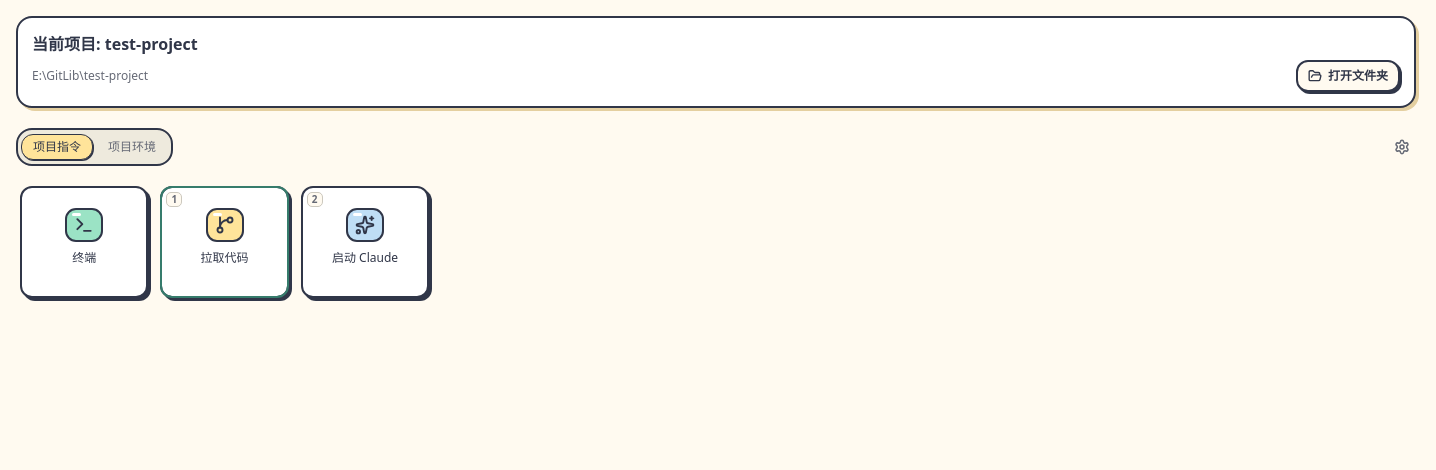
MainArea - Phase 22 edit mode UI › keeps project info fixed and gives each tab content its own hidden scrollbar
Click the tab "项目环境" at [132, 147], box [96,134,168,160]
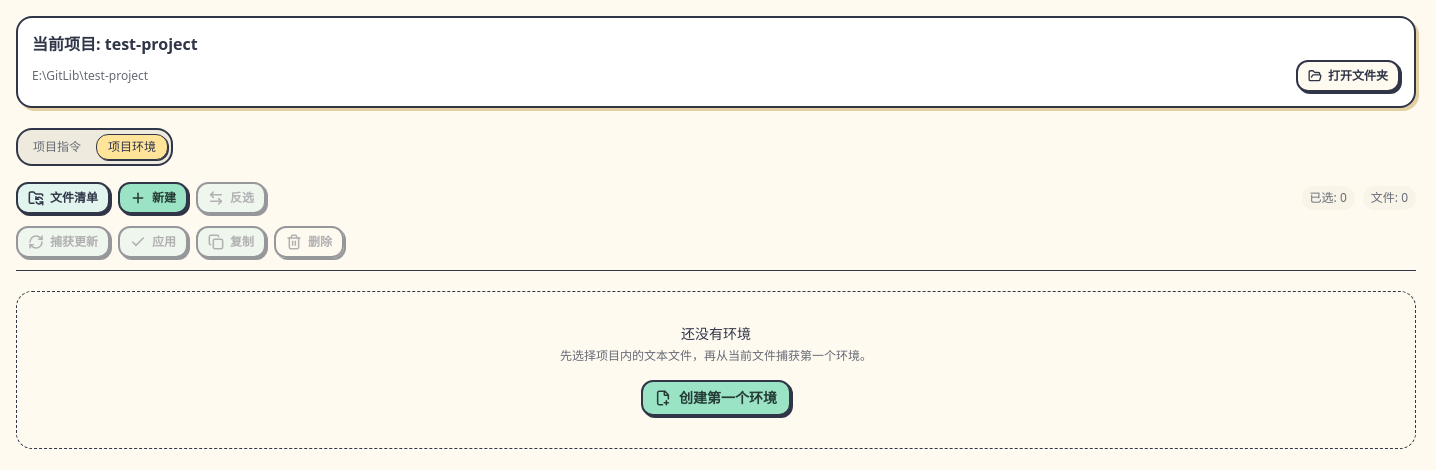
Result: the element showing "文件清单 新建 反选 已选: 0 文件: 0 捕获更新 应用 复制 删除" is shown at [16,182,1416,271]
Result: the element showing "还没有环境 先选择项目内的文本文件，再从当前文件捕获第一个环境。 创建第一个环境" is shown at [16,291,1416,453]
